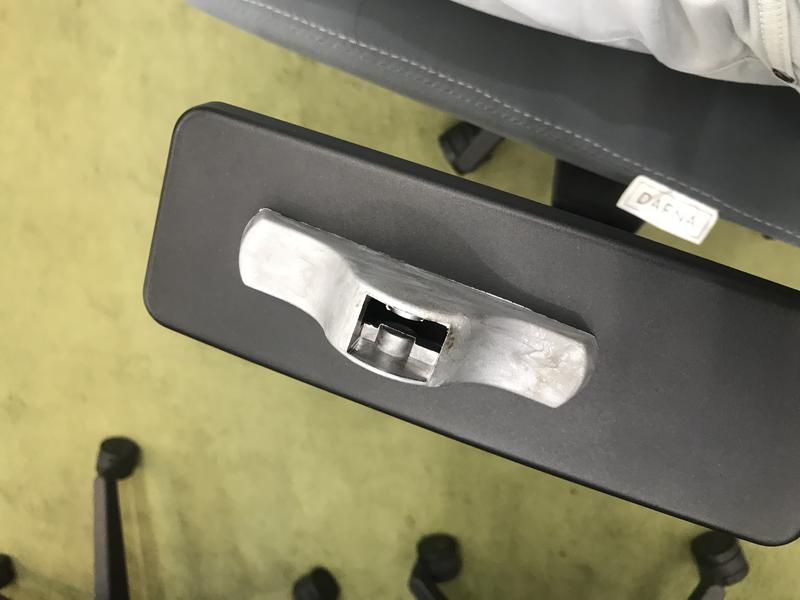zapchast: (218, 191, 618, 432)
